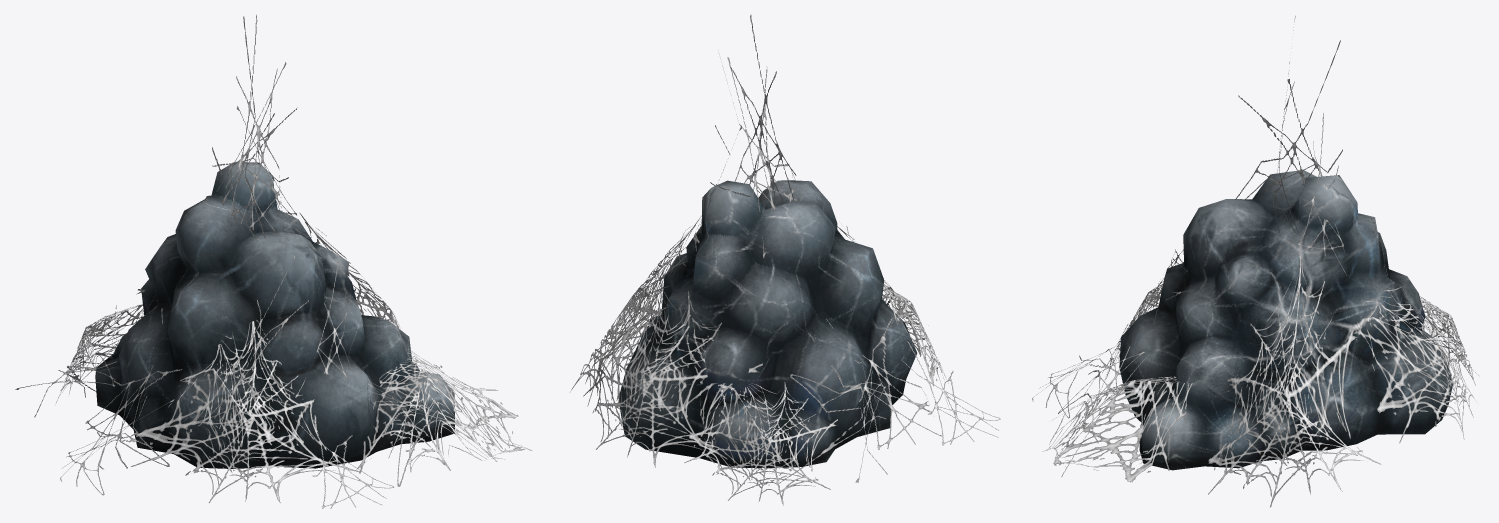
Rendered from PRP_SpiderEggs.FBX.
3 views of the same model, side by side, from view 1: azimuth 30°, elevation 25°; view 2: azimuth 150°, elevation 25°; view 3: azimuth 270°, elevation 25° (orthographic).
Parts seen in each view (by area): view 1: PRP_SpiderEggs; view 2: PRP_SpiderEggs; view 3: PRP_SpiderEggs.
Part boxes in pixels (<box>): PRP_SpiderEggs: <box>15,14,532,508</box>; PRP_SpiderEggs: <box>570,14,1000,505</box>; PRP_SpiderEggs: <box>1032,16,1478,507</box>.
Size of the model in its own units: 81.13 by 77.96 by 76.3.
Materials: 1 (1 with a texture image).
